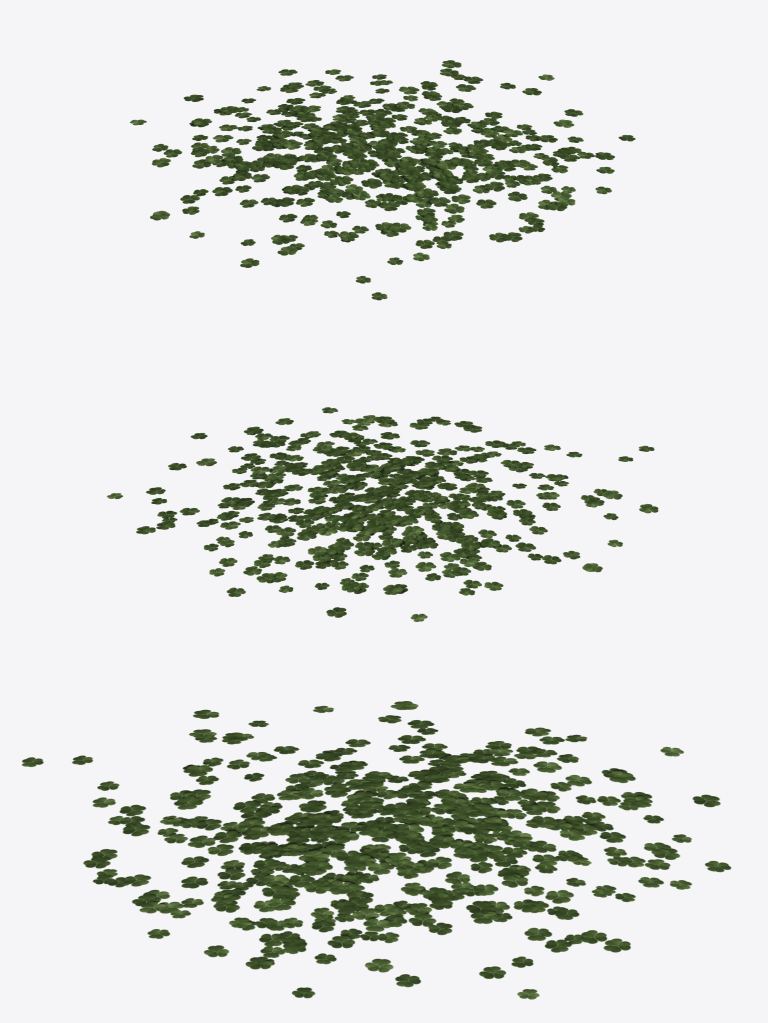
File: clover1.glb
3 views of the same model, one above another, from view 1: azimuth 30°, elevation 25°; view 2: azimuth 150°, elevation 25°; view 3: azimuth 270°, elevation 25° (orthographic). The views are drawn at different scales.
Visible parts, largest first — view 1: Clover-05; view 2: Clover-05; view 3: Clover-05.
Part boxes in pixels (<box>): Clover-05: <box>130,60,635,300</box>; Clover-05: <box>107,407,658,621</box>; Clover-05: <box>22,701,731,999</box>.
Size of the model in its own units: 1.61 by 0.0688 by 1.61.
Materials: 1 (1 with a texture image).
